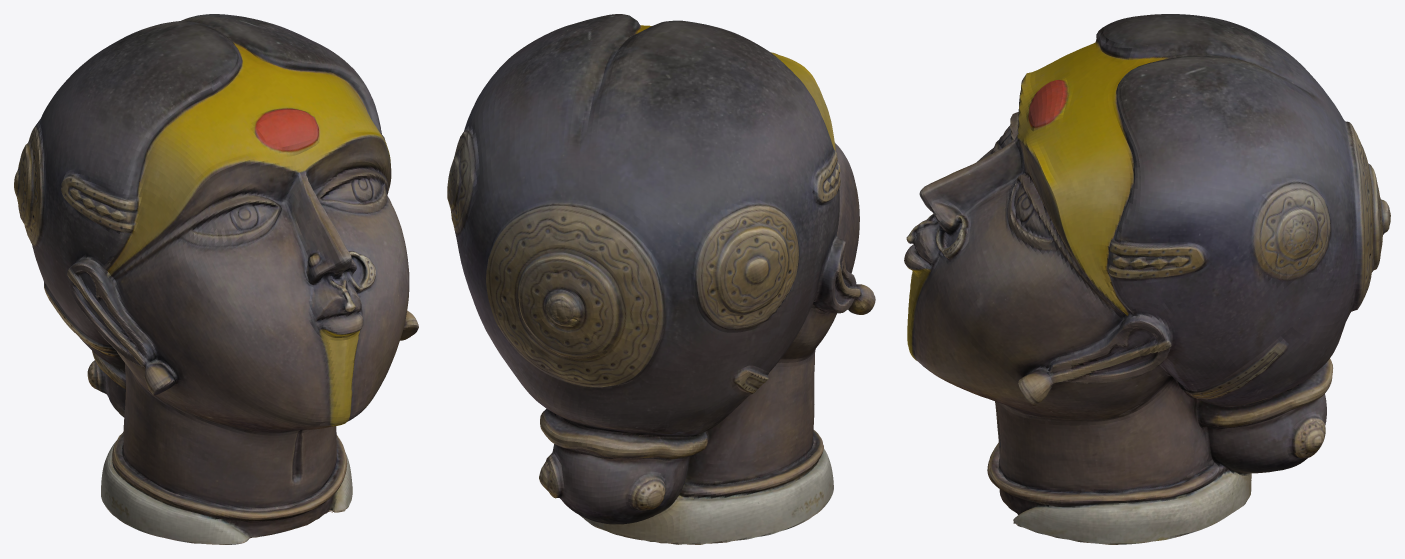
File: thota-head-with-nose-ring-and-hair-ornaments.glb
3 views of the same model, side by side, from view 1: azimuth 30°, elevation 25°; view 2: azimuth 150°, elevation 25°; view 3: azimuth 270°, elevation 25° (orthographic). The views are drawn at different scales.
Visible parts, largest first — view 1: 13_Thotta_Head_04_Edited; view 2: 13_Thotta_Head_04_Edited; view 3: 13_Thotta_Head_04_Edited.
Part boxes in pixels (bbox=[...]): 13_Thotta_Head_04_Edited: bbox=[14, 14, 418, 544]; 13_Thotta_Head_04_Edited: bbox=[447, 14, 875, 544]; 13_Thotta_Head_04_Edited: bbox=[904, 14, 1390, 544].
Size of the model in its own units: 0.3788 by 0.5 by 0.4822.
1 material, 1 textured.
